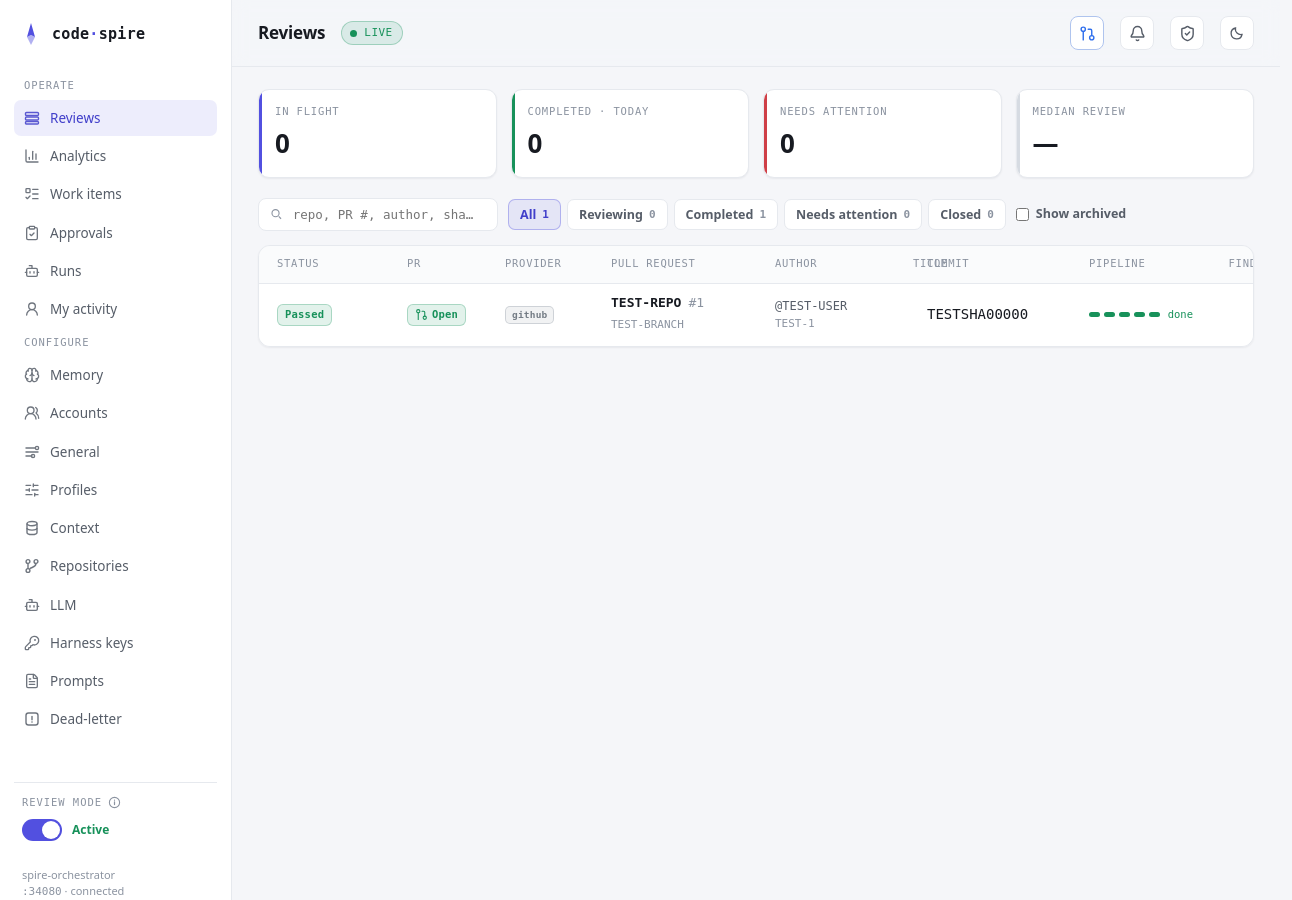
Test: App — Show archived › requests archived rows and shows them once the box is checked
The image size is (1292, 900).
Expected: the text "#1" is shown, [688,293,704,312]
Click the checkbox labelled "Show archived".
click(1022, 214)  # box [1016,208,1029,221]
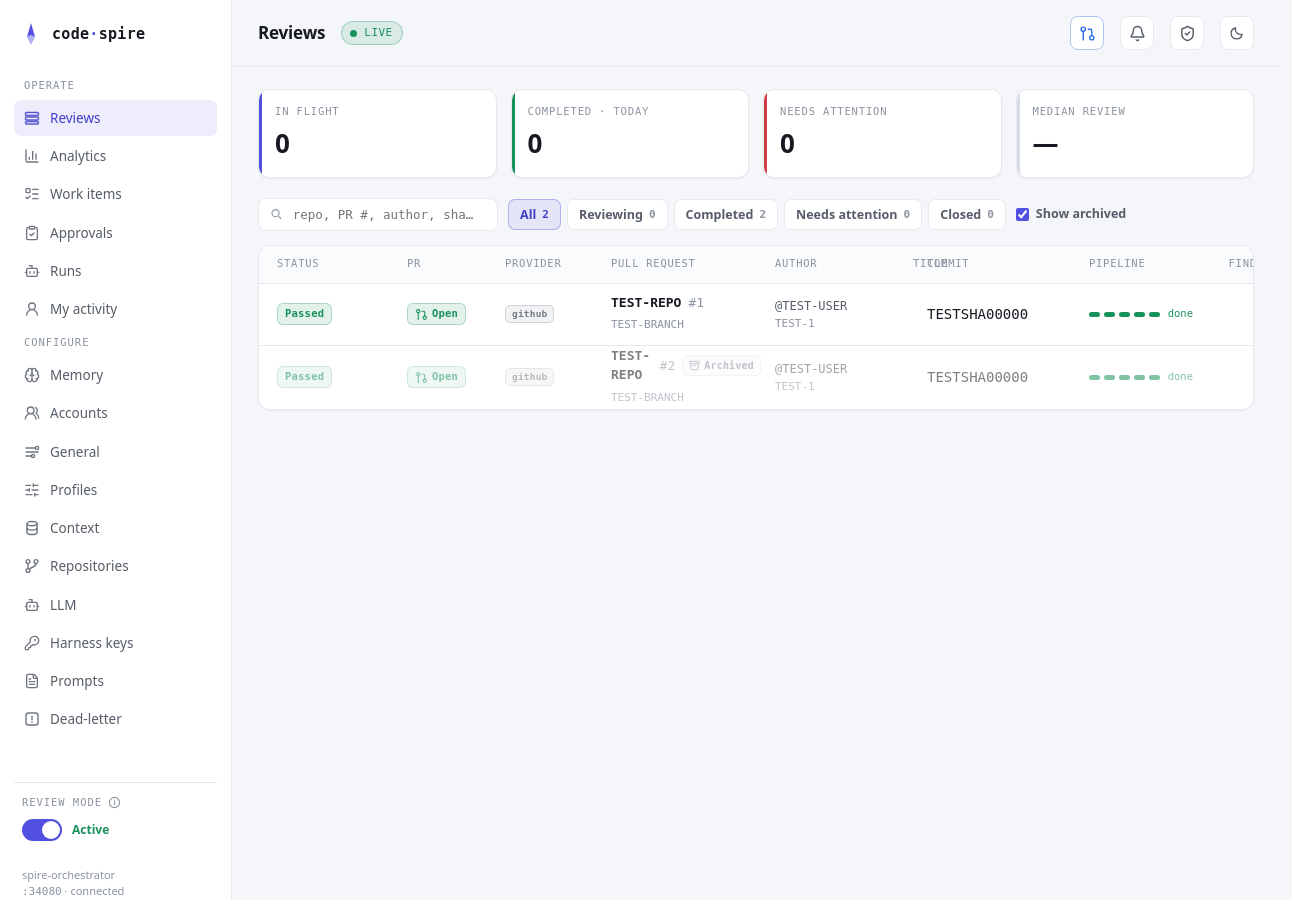
Expected: the text "#1" is shown, [688,292,704,312]
Result: the text "#2" is shown at [660,356,675,375]
